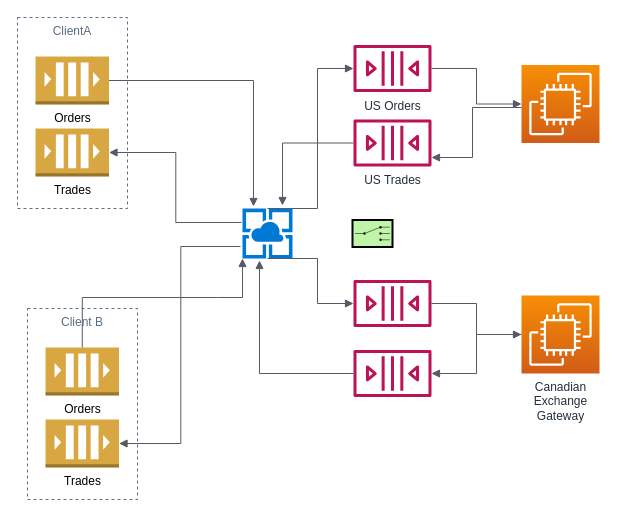
The diagram is 617 pixels wide and 517 high, and some of its shapes have lost their labels. Each missing label, with the centre of its shape:
Canada Orders: (x=392, y=303)
Canada Trades: (x=392, y=373)
US Exchange Gateway: (x=560, y=103)
